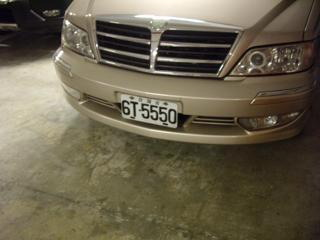plate: (119, 92, 179, 130)
